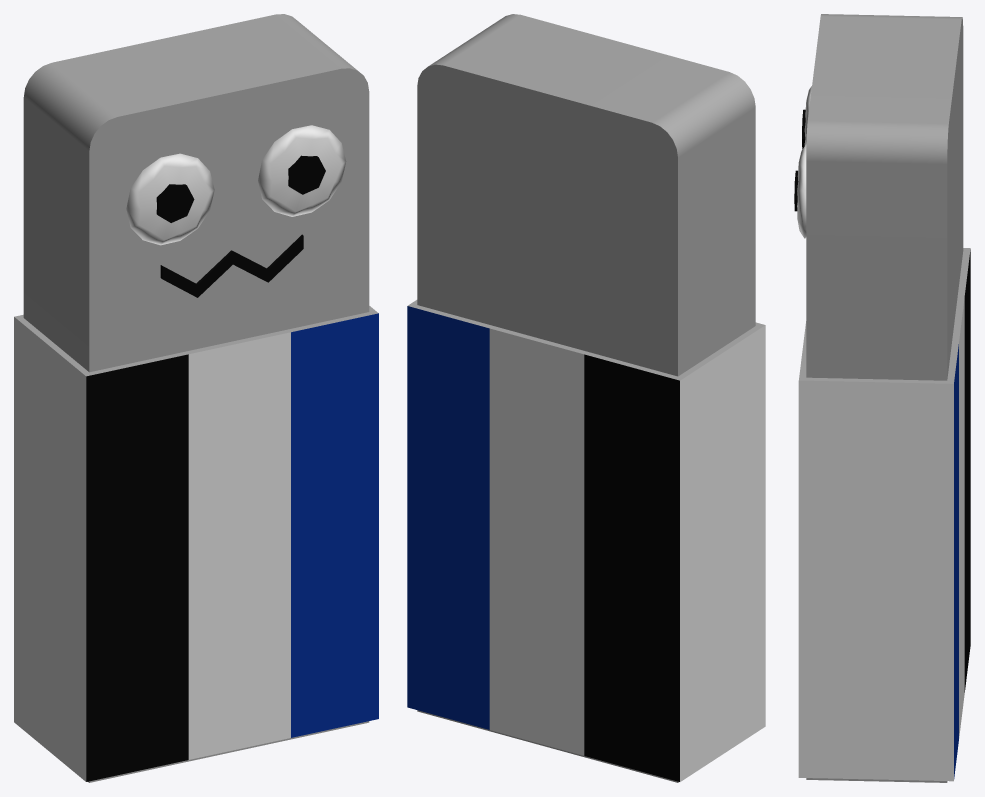
The model's file is kesigomusayuuuu.fbx.
3 renders of one model, left to right at view 1: azimuth 30°, elevation 25°; view 2: azimuth 150°, elevation 25°; view 3: azimuth 270°, elevation 25°, orthographic. The views are drawn at different scales.
Visible parts, largest first — view 1: pCube3, pCylinder16, pCylinder17, pCube4, pCylinder18, pCylinder19; view 2: pCube3; view 3: pCube3, pCylinder16.
Boxes of the visible parts, <box> form: pCube3: <box>14,14,378,782</box>; pCylinder16: <box>258,125,346,216</box>; pCylinder17: <box>126,153,214,245</box>; pCube4: <box>160,234,303,297</box>; pCylinder18: <box>156,184,194,222</box>; pCylinder19: <box>288,155,325,194</box>; pCube3: <box>407,14,765,782</box>; pCube3: <box>798,14,970,782</box>; pCylinder16: <box>797,144,806,238</box>.
Size of the model in its own units: 53.83 by 117 by 28.81.
